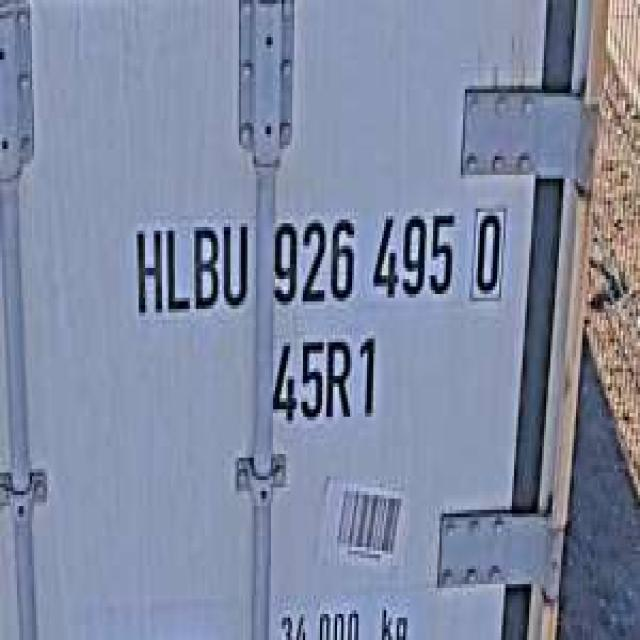dv: (465, 193, 510, 309)
owner: (128, 205, 252, 328)
serial: (264, 197, 458, 313)
size: (265, 324, 384, 432)
